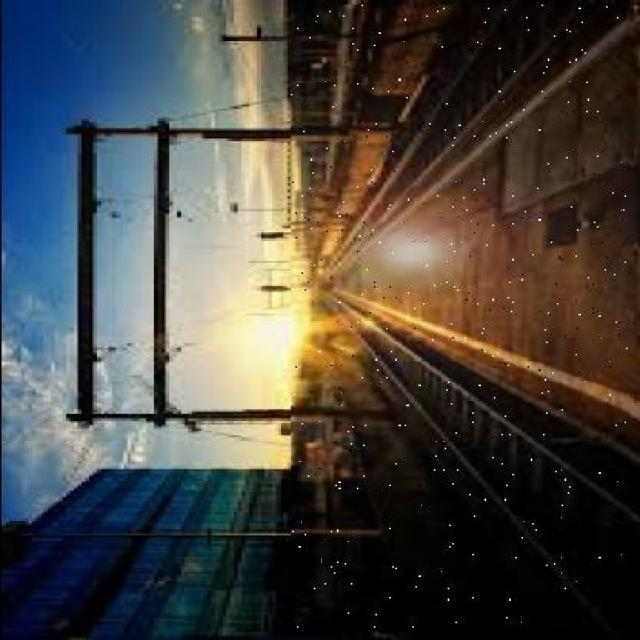rail: (292, 7, 629, 629)
